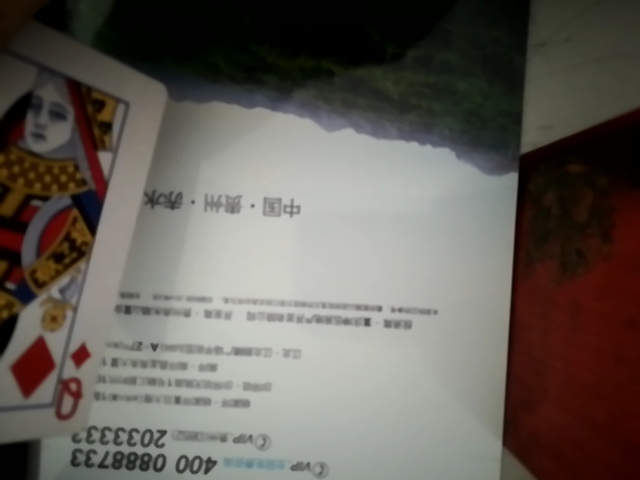fk q: (0, 25, 173, 452)
